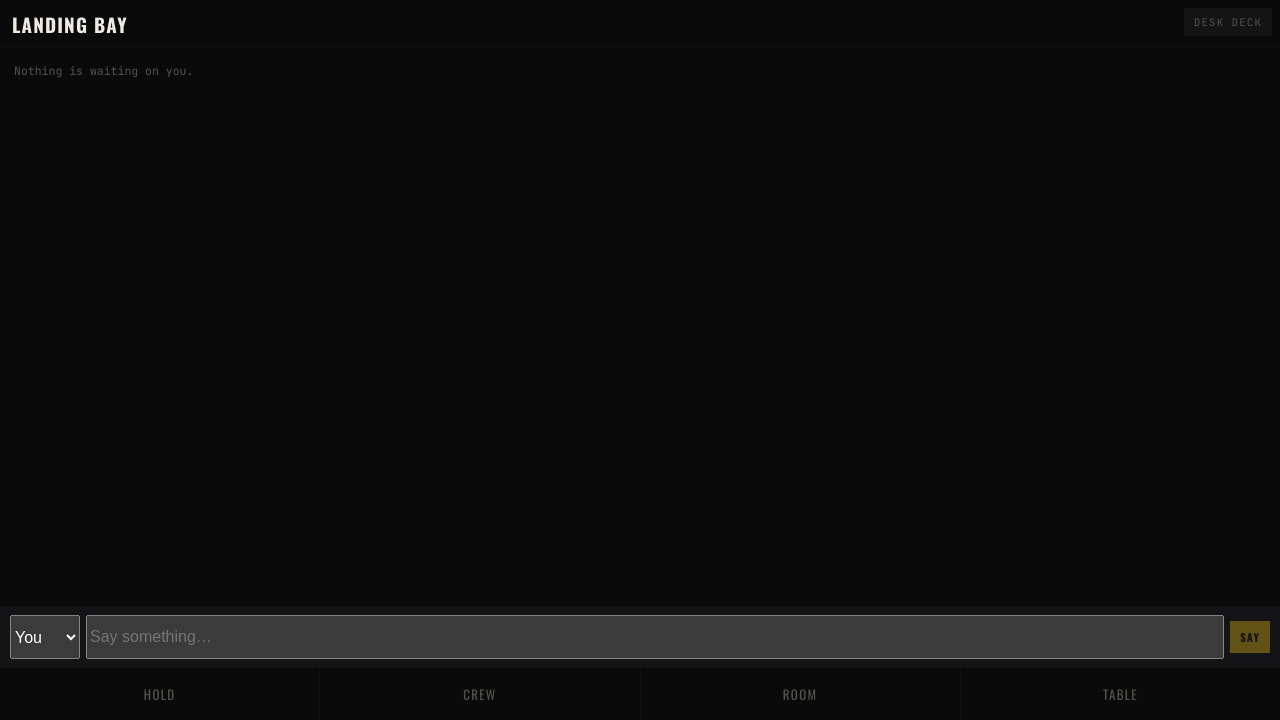
Test: choosing a surface › and a door back from it, on a device that would have had one
The width and height of the screenshot is (1280, 720).
Click the button "Desk deck" at (1228, 22), box [1184, 8, 1272, 36]
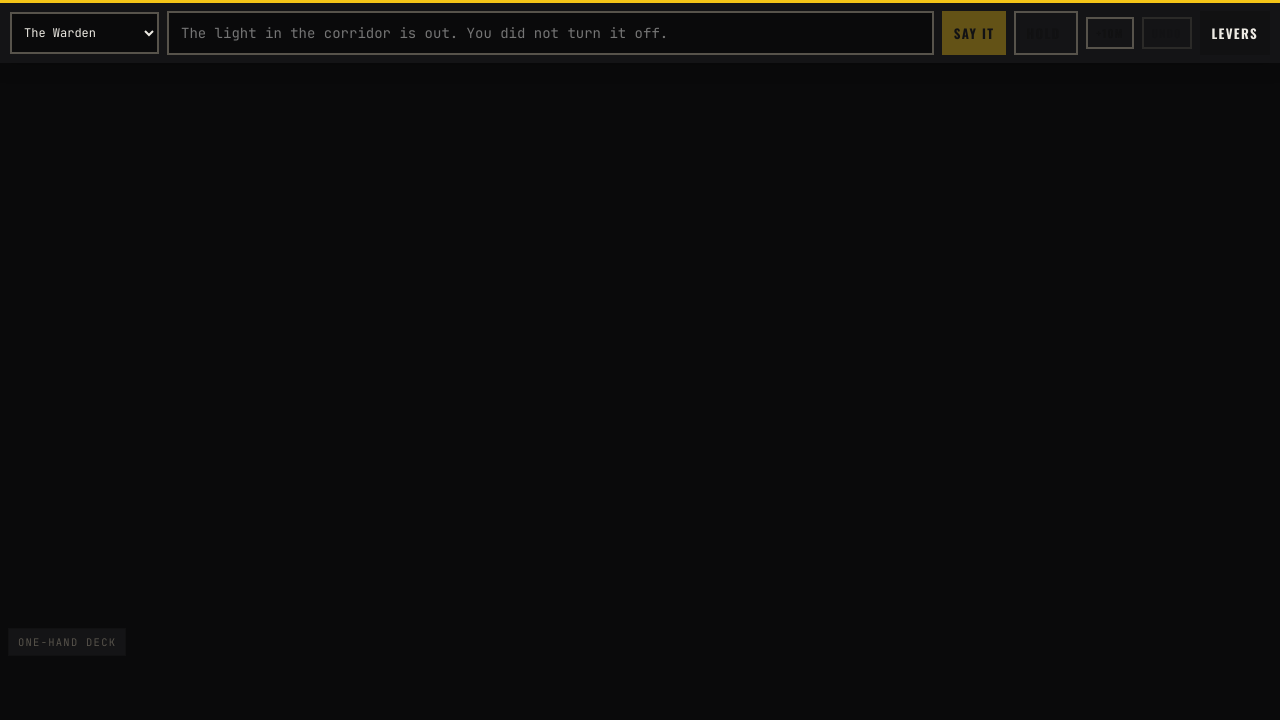
Click the button "One-hand deck" at (67, 642), box [8, 628, 126, 656]
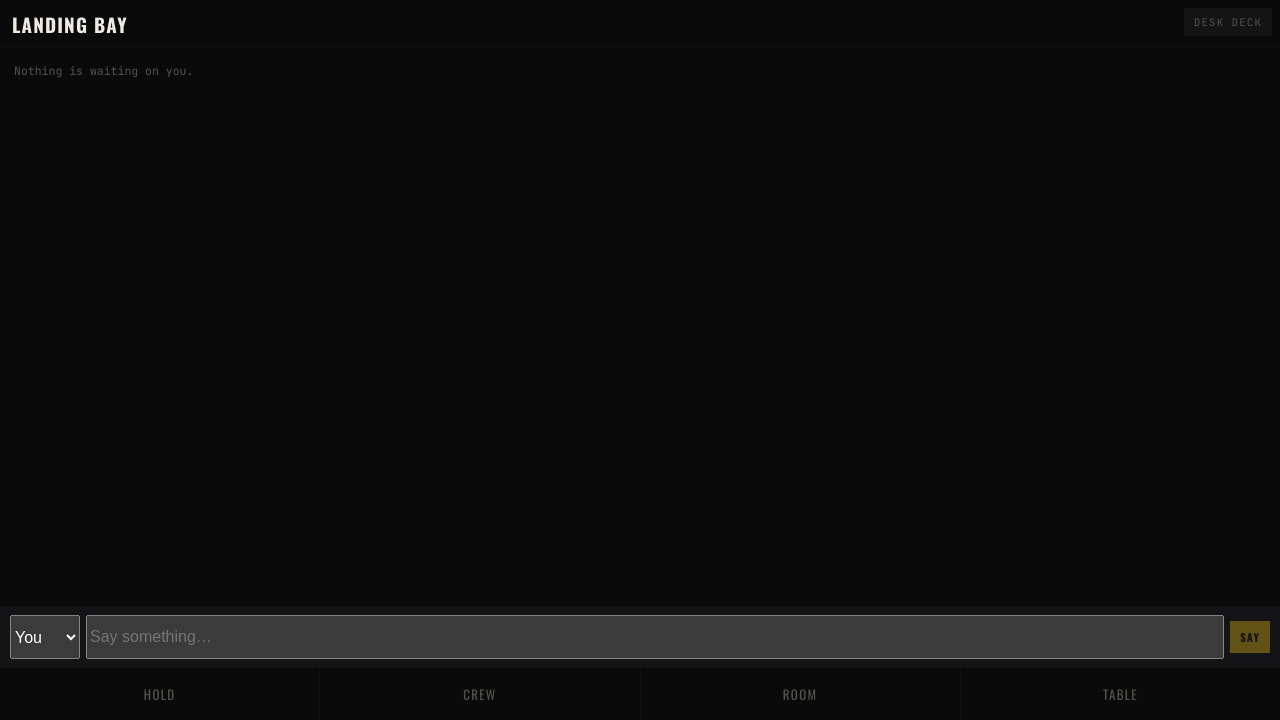
Now the element named "Warden" is shown
